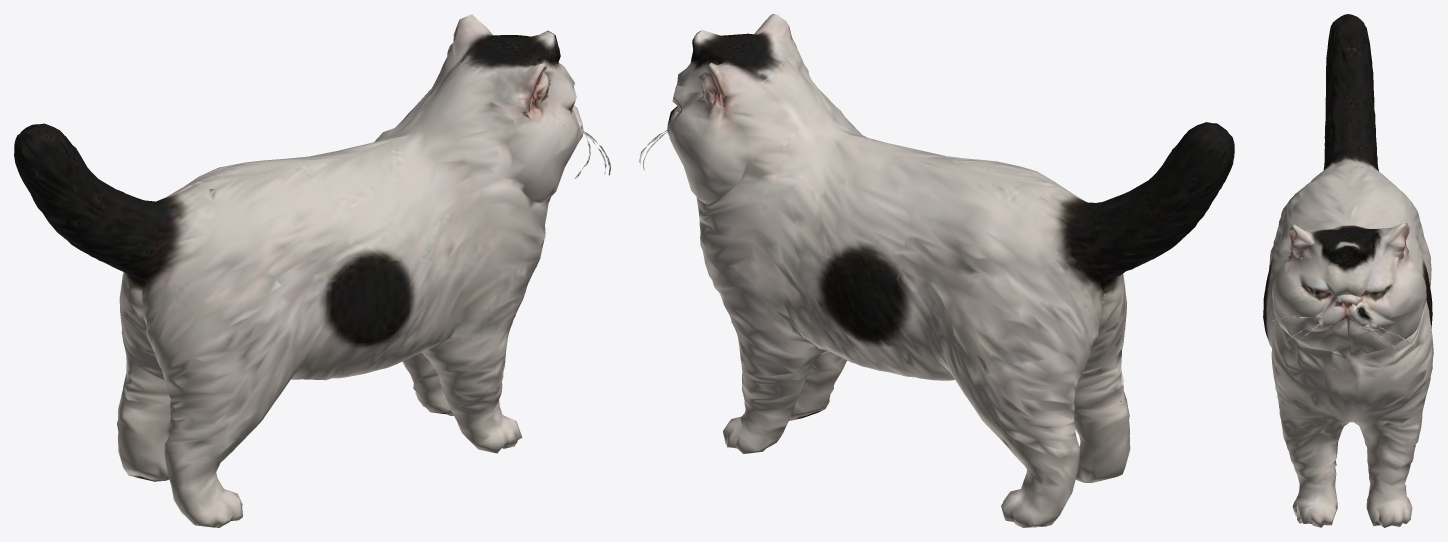
The model's file is OJINEKO-lo.glb.
3 renders of one model, left to right at view 1: azimuth 30°, elevation 25°; view 2: azimuth 150°, elevation 25°; view 3: azimuth 270°, elevation 25°, orthographic. The views are drawn at different scales.
Visible parts, largest first — view 1: tripo_node_26896545-21b7-464c-9e72-6ab543120349; view 2: tripo_node_26896545-21b7-464c-9e72-6ab543120349; view 3: tripo_node_26896545-21b7-464c-9e72-6ab543120349.
Part boxes in pixels (<box>): tripo_node_26896545-21b7-464c-9e72-6ab543120349: <box>14,14,610,527</box>; tripo_node_26896545-21b7-464c-9e72-6ab543120349: <box>639,14,1234,527</box>; tripo_node_26896545-21b7-464c-9e72-6ab543120349: <box>1263,14,1433,527</box>.
Size of the model in its own units: 1.44 by 0.9949 by 0.4636.
Materials: 1 (1 with a texture image).
